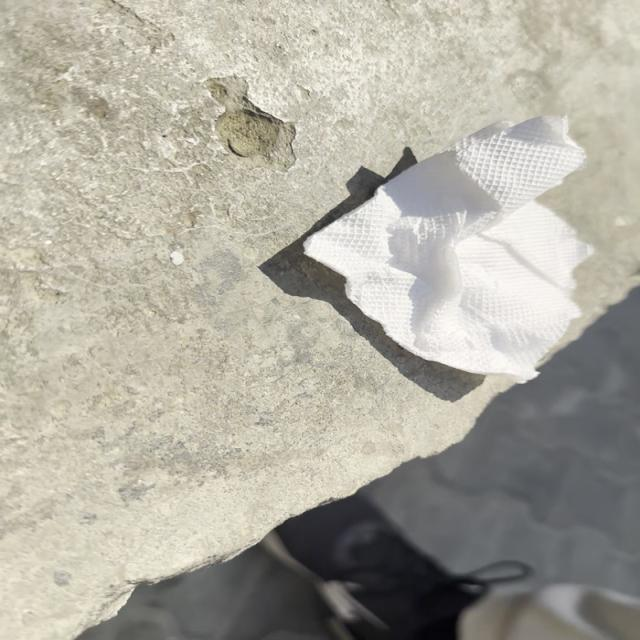tissue: (294, 108, 600, 390)
